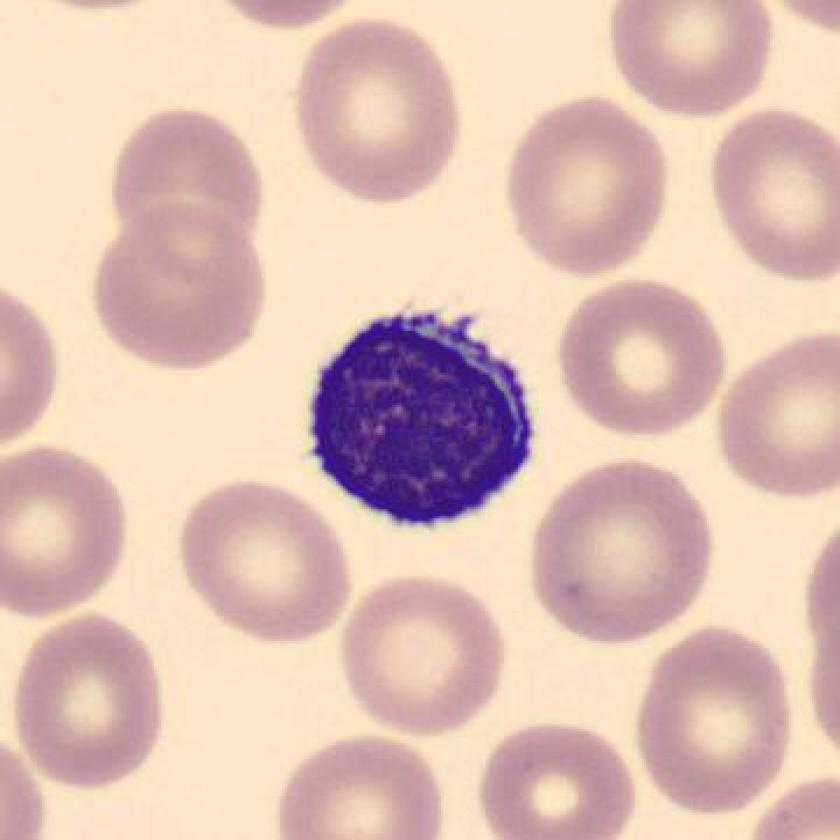lymphocyte: (295, 295, 542, 540)
